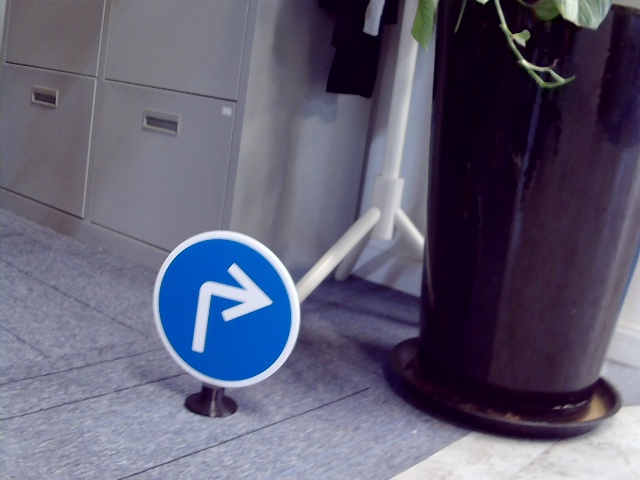turn_right: (185, 259, 271, 356)
